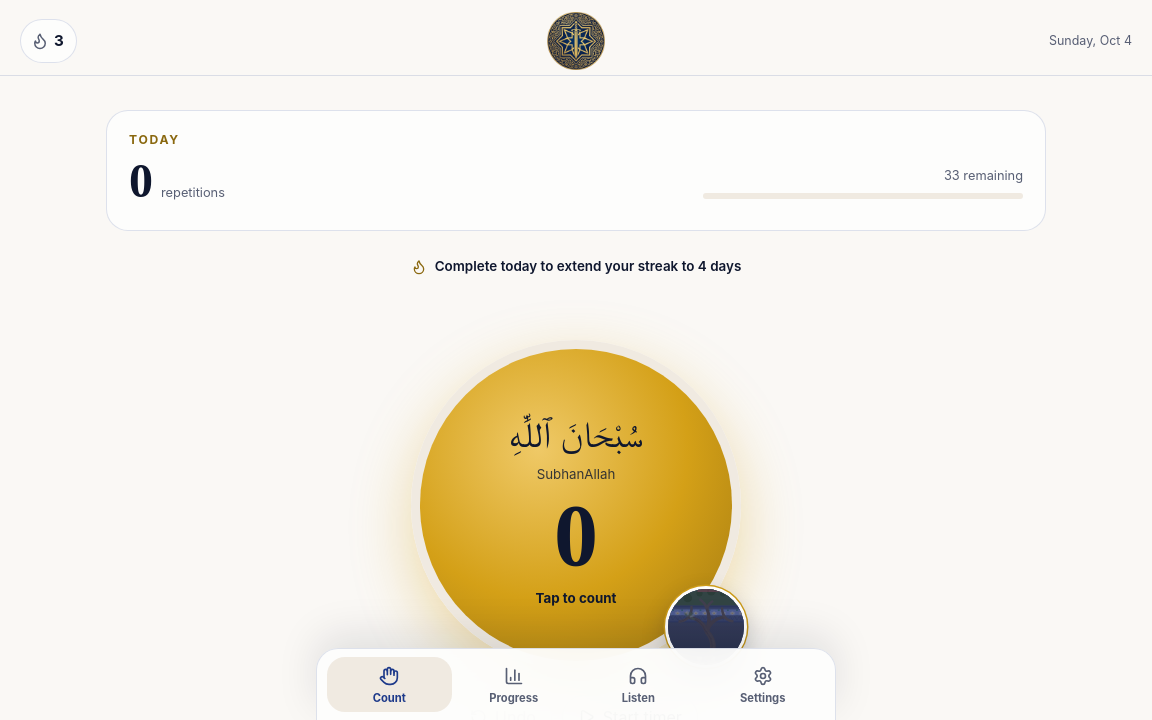
Test: opens the streak sheet from the header chip, and closes it again
This screenshot has width=1152, height=720.
Click the button named "Streak: 3 days." at (48,40), box [20,18,77,62]
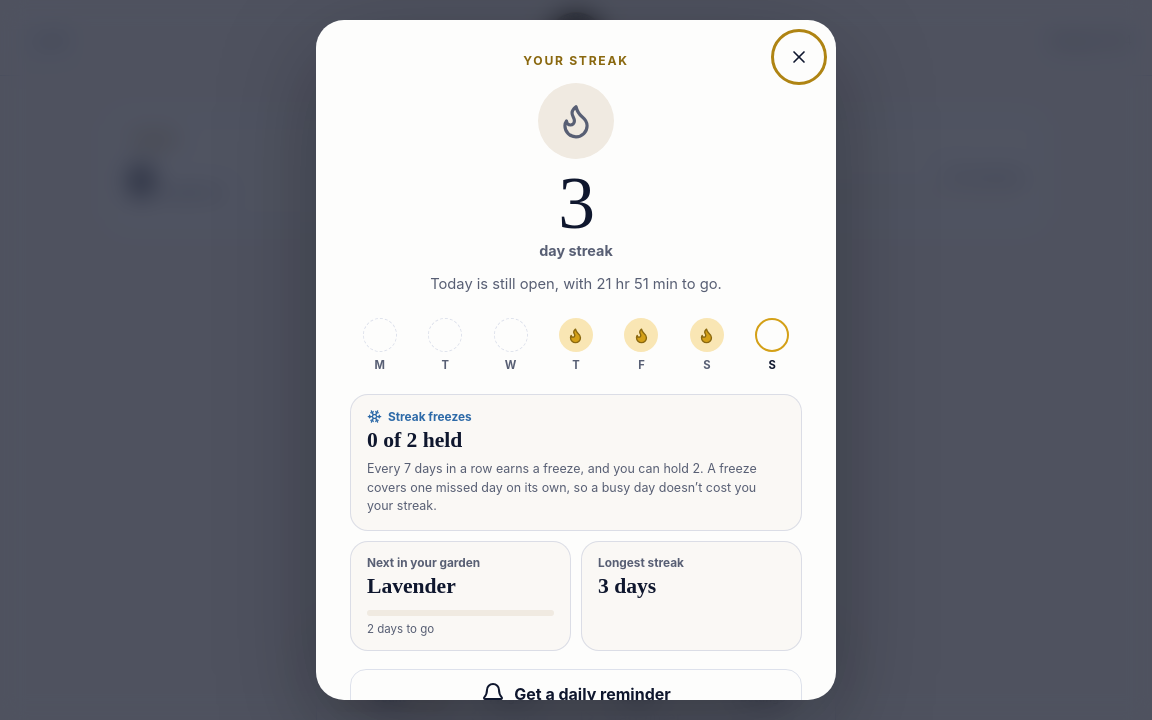
Click the 2nd button named "Done" at (799,57), box [777,35,821,79]
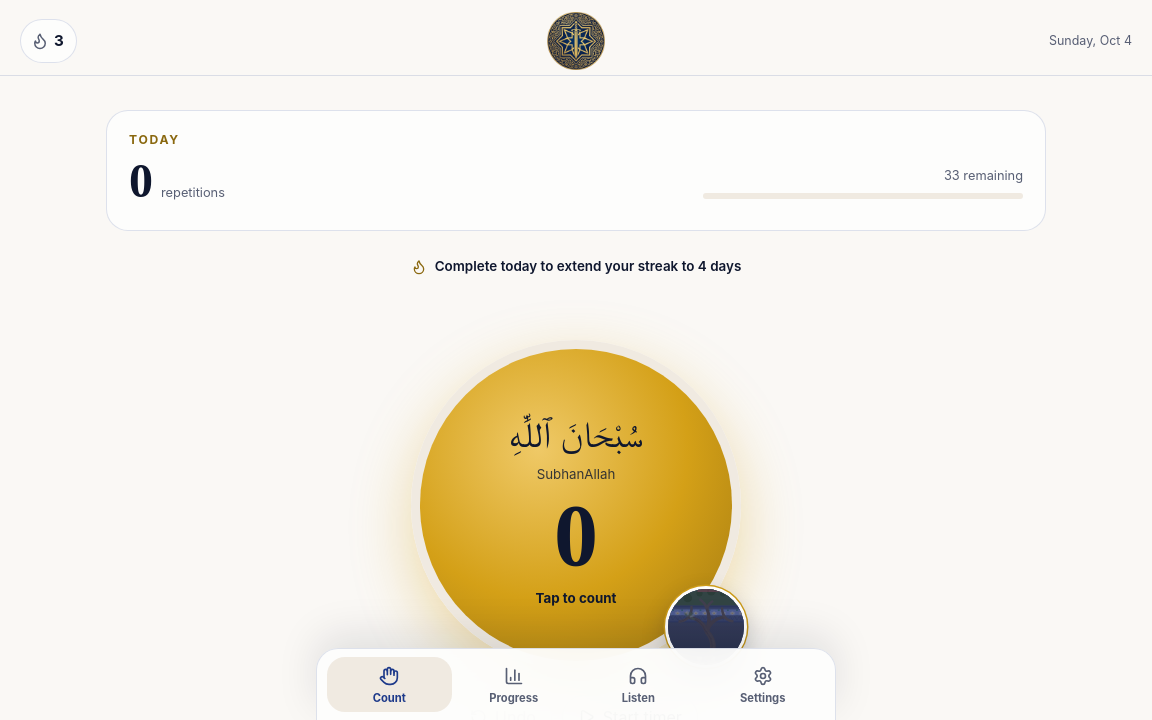
expect the dialog is gone: met
